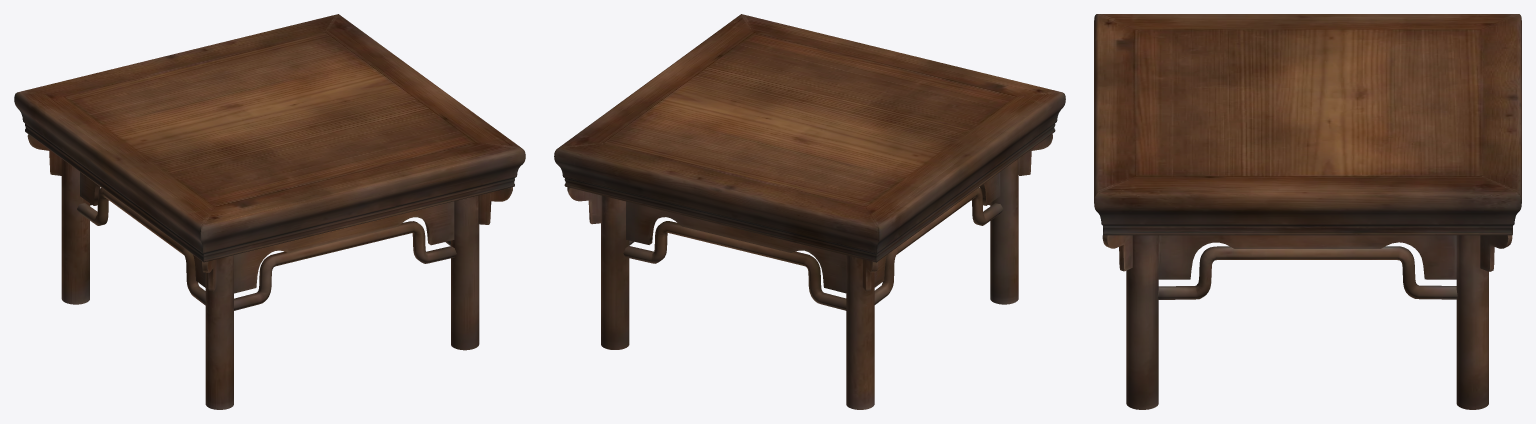
The model's file is chinese_tea_table.glb.
3 renders of one model, left to right at view 1: azimuth 30°, elevation 25°; view 2: azimuth 150°, elevation 25°; view 3: azimuth 270°, elevation 25°, orthographic. The views are drawn at different scales.
Parts seen in each view (by area): view 1: chinese_tea_table; view 2: chinese_tea_table; view 3: chinese_tea_table.
Part boxes in pixels (left/top/right/bottom): chinese_tea_table: left=14, top=14, right=525, bottom=409; chinese_tea_table: left=554, top=14, right=1065, bottom=409; chinese_tea_table: left=1094, top=14, right=1521, bottom=409.
Size of the model in its own units: 0.8413 by 0.4987 by 0.8357.
1 material, 1 textured.
